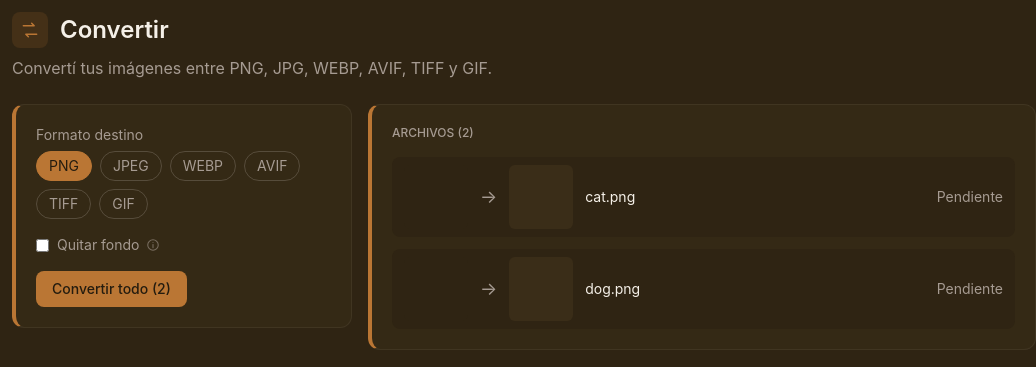
Test: ConvertScreen › reports a per-file error without stopping the batch
Click the button "Convertir todo (2)" at [111, 289], box [36,271,187,307]
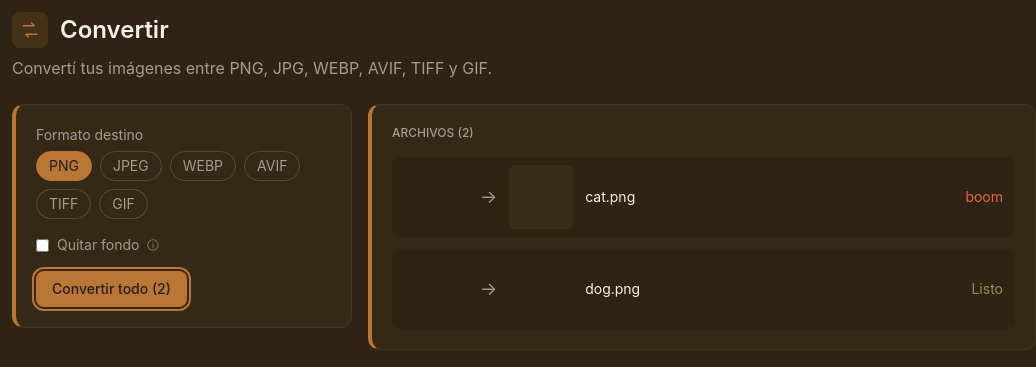
Check: the text "boom" is shown, box [965,187,1003,207]
Check: the text "Listo" is shown, box [972,279,1003,299]
